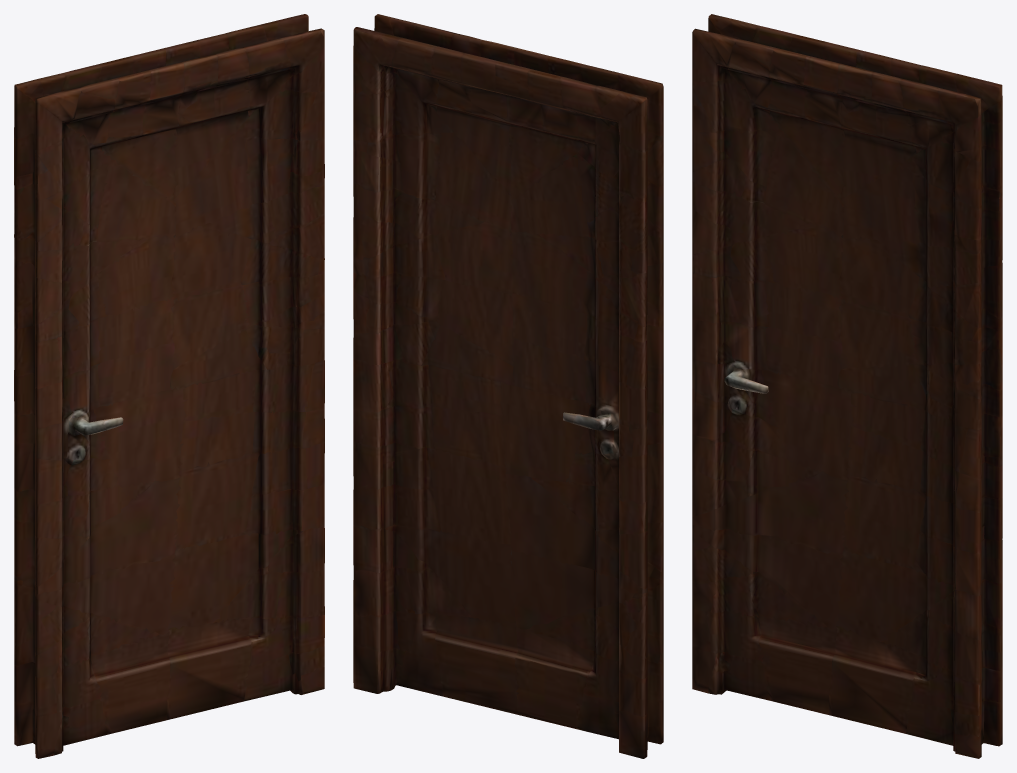
The model's file is closed_door.glb.
3 renders of one model, left to right at view 1: azimuth 30°, elevation 25°; view 2: azimuth 150°, elevation 25°; view 3: azimuth 330°, elevation 25°, orthographic.
Visible parts, largest first — view 1: mesh_node; view 2: mesh_node; view 3: mesh_node.
Boxes of the visible parts, x1,y1,x2,y2 form: mesh_node: [14, 14, 324, 758]; mesh_node: [353, 14, 663, 758]; mesh_node: [692, 14, 1002, 758].
Bounding box in the file's own units: 0.8817 × 1.9 × 0.1482.
Materials: 1 (1 with a texture image).
